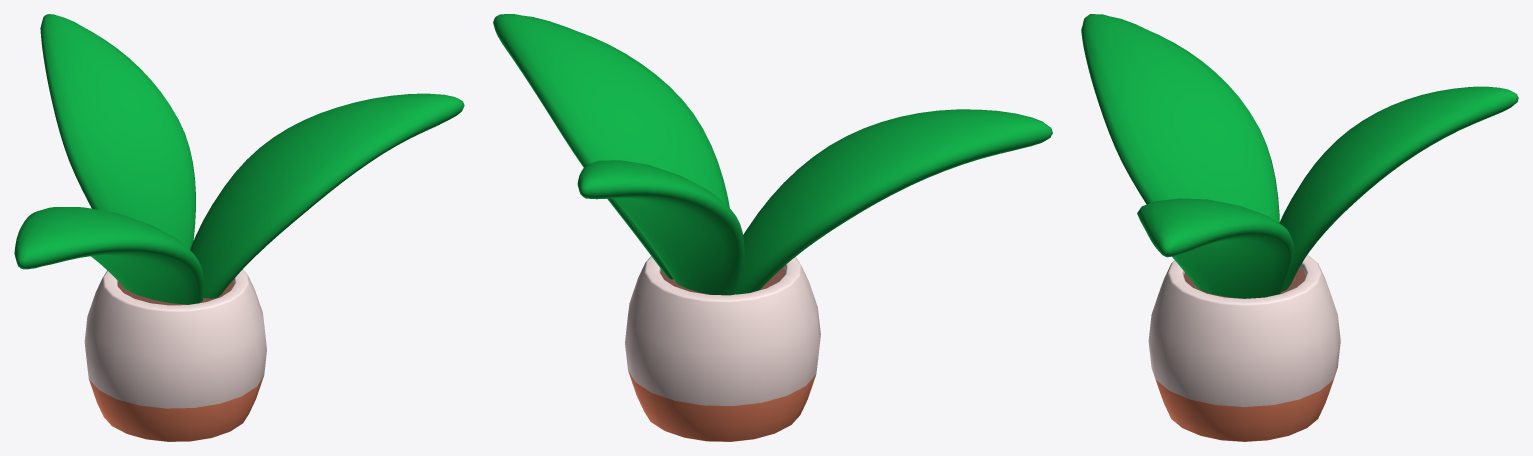
Rendered from City_20_Plant_2.glb.
3 renders of one model, left to right at view 1: azimuth 30°, elevation 25°; view 2: azimuth 150°, elevation 25°; view 3: azimuth 270°, elevation 25°, orthographic. The views are drawn at different scales.
Parts seen in each view (by area): view 1: City_20_Plant_2; view 2: City_20_Plant_2; view 3: City_20_Plant_2.
Boxes of the visible parts, box(x1,y1,x2,y2) form: City_20_Plant_2: box(14, 14, 464, 441); City_20_Plant_2: box(493, 14, 1052, 441); City_20_Plant_2: box(1081, 14, 1518, 441).
Size of the model in its own units: 2.04 by 1.24 by 1.53.
Materials: 1 (1 with a texture image).
